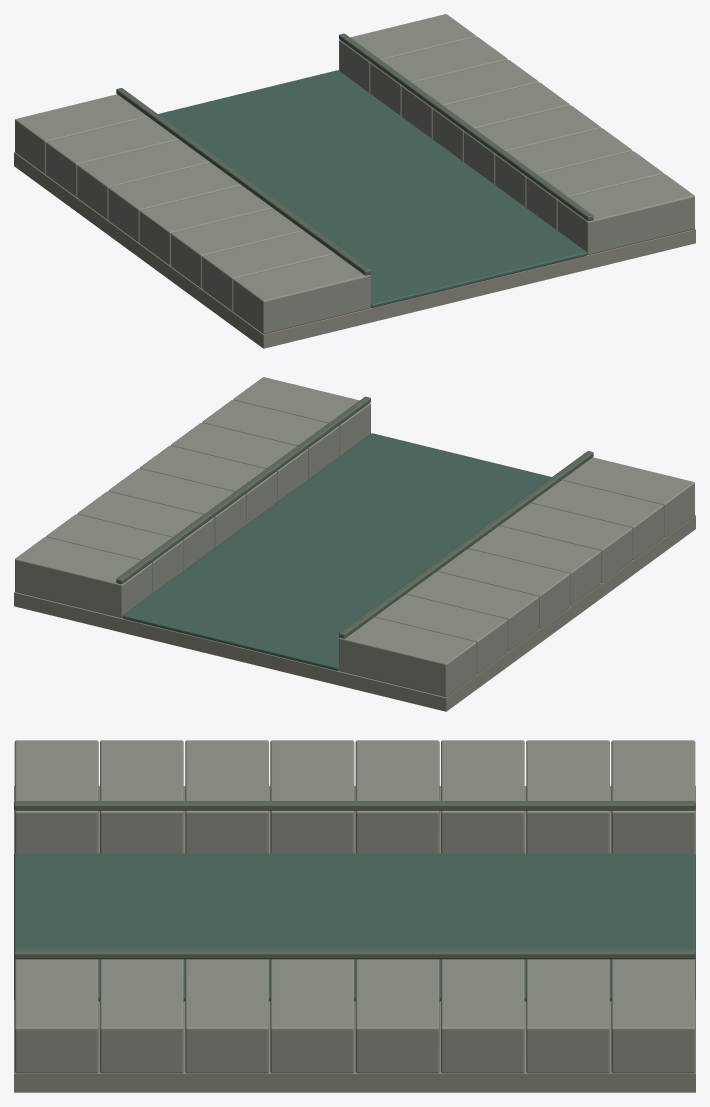
Rendered from undercity-sewers-and-thieves-den-brick-barrel-open-cut-2941d71b__25028.glb.
3 views of the same model, one above another, from view 1: azimuth 30°, elevation 25°; view 2: azimuth 150°, elevation 25°; view 3: azimuth 270°, elevation 25° (orthographic). The views are drawn at different scales.
Parts seen in each view (by area): view 1: brick-barrel-open-cutaway; view 2: brick-barrel-open-cutaway; view 3: brick-barrel-open-cutaway.
Part boxes in pixels (bbox=[...]): brick-barrel-open-cutaway: bbox=[14, 14, 695, 348]; brick-barrel-open-cutaway: bbox=[14, 377, 695, 711]; brick-barrel-open-cutaway: bbox=[14, 740, 695, 1092].
Bounding box in the file's own units: 4 × 0.465 × 4.
